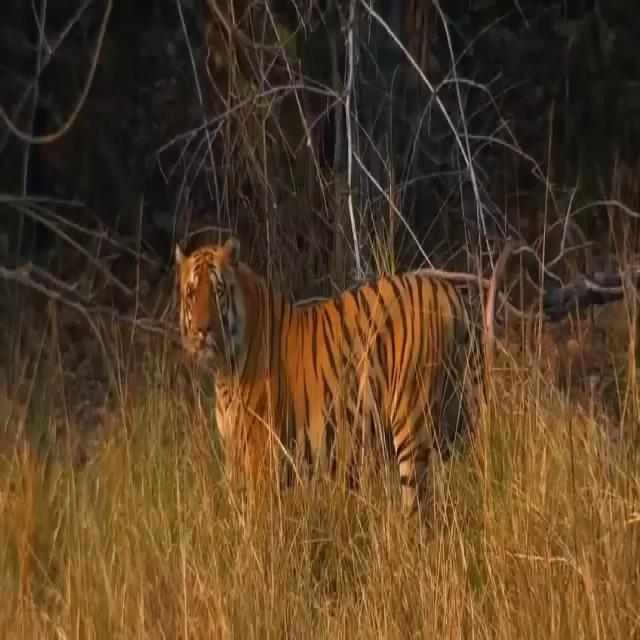tiger: (175, 236, 490, 513)
